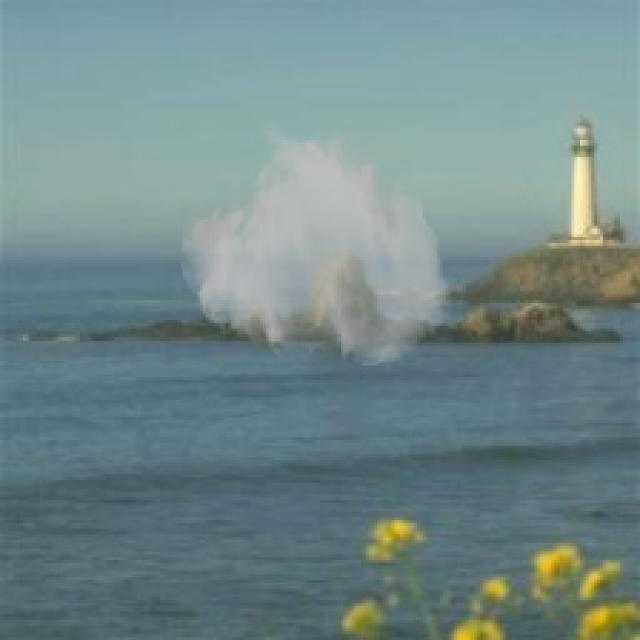Smoke: (177, 122, 454, 368)
